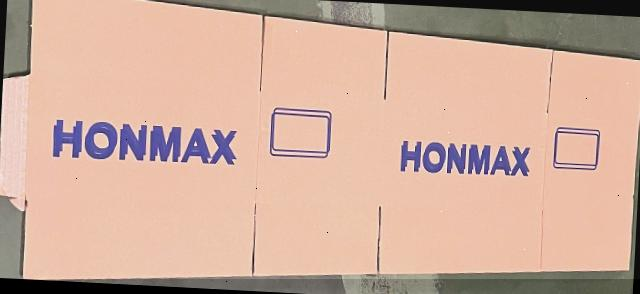box: (0, 0, 640, 279)
